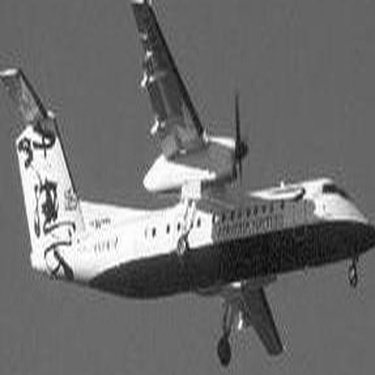airplane: (6, 3, 373, 350)
